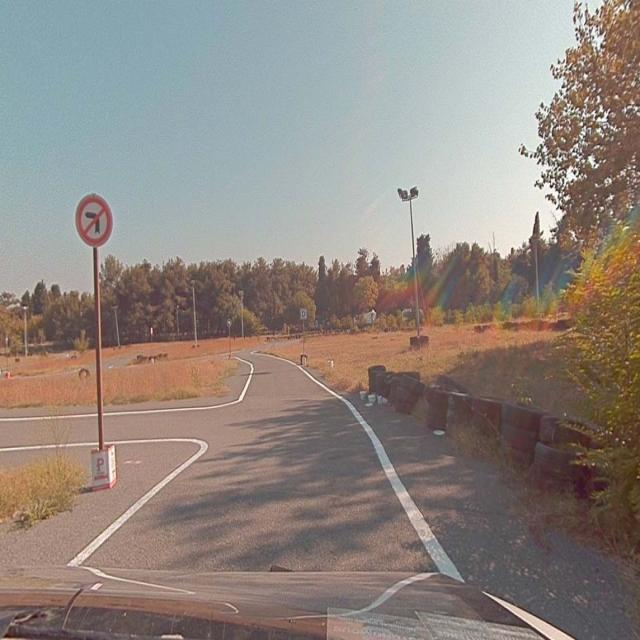durak: (301, 309, 307, 319)
soladonulmez: (75, 193, 112, 247)
